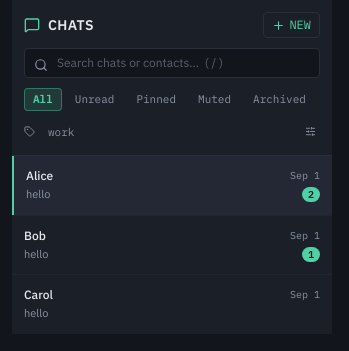
Test: ChatList tag filter › combines a tag with the chat filters rather than replacing them
Click the button "work". click: [61, 132]
box: [39,120,83,143]
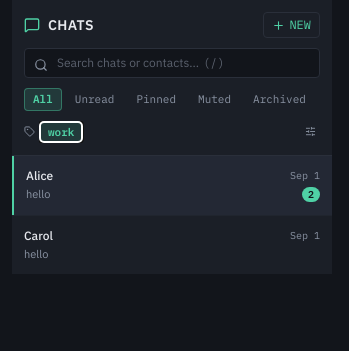
Click the button "unread". click: [95, 99]
box: [66,88,123,110]
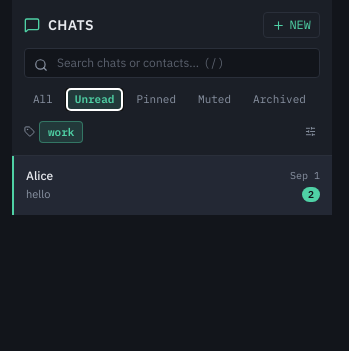
Expected: the text "Alice" is shown, [26,168,53,184]
Result: the button "Carol" is gone
